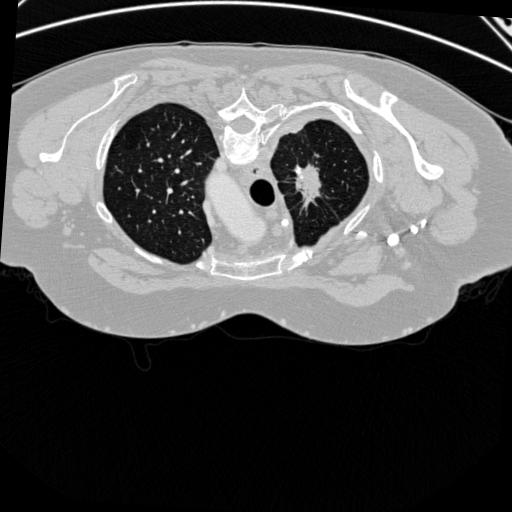nodule: (292, 166, 325, 199)
